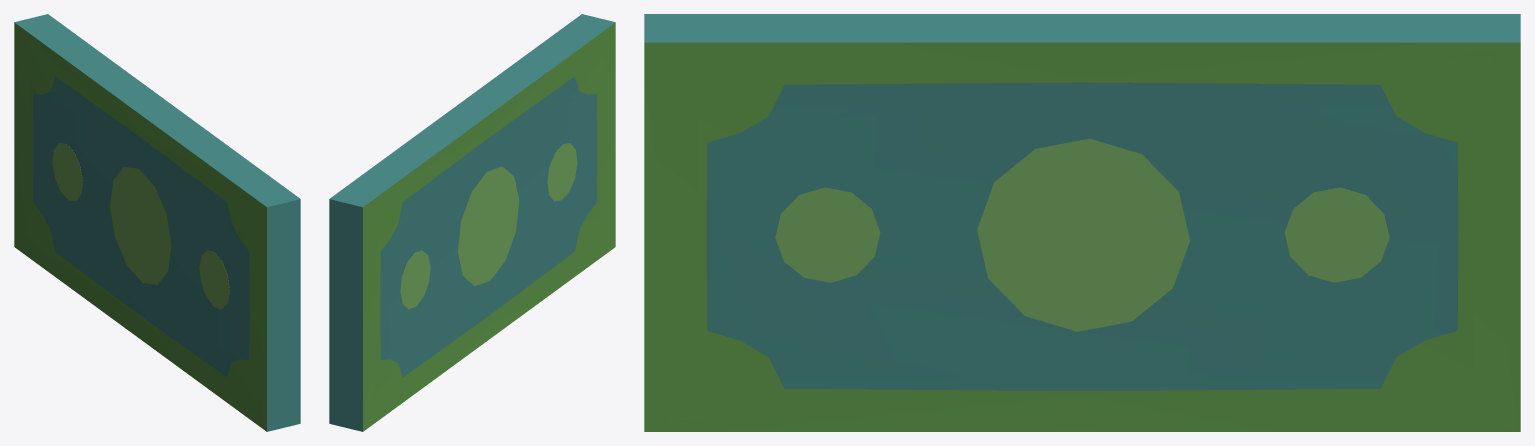
Rendered from Money_1.fbx.
3 renders of one model, left to right at view 1: azimuth 30°, elevation 25°; view 2: azimuth 150°, elevation 25°; view 3: azimuth 270°, elevation 25°, orthographic. The views are drawn at different scales.
Visible parts, largest first — view 1: Money_1; view 2: Money_1; view 3: Money_1.
Part boxes in pixels (x1,y1,x2,y2): Money_1: [14, 14, 300, 431]; Money_1: [329, 14, 615, 431]; Money_1: [644, 14, 1520, 431].
Size of the model in its own units: 0.0131 by 0.0832 by 0.1697.
